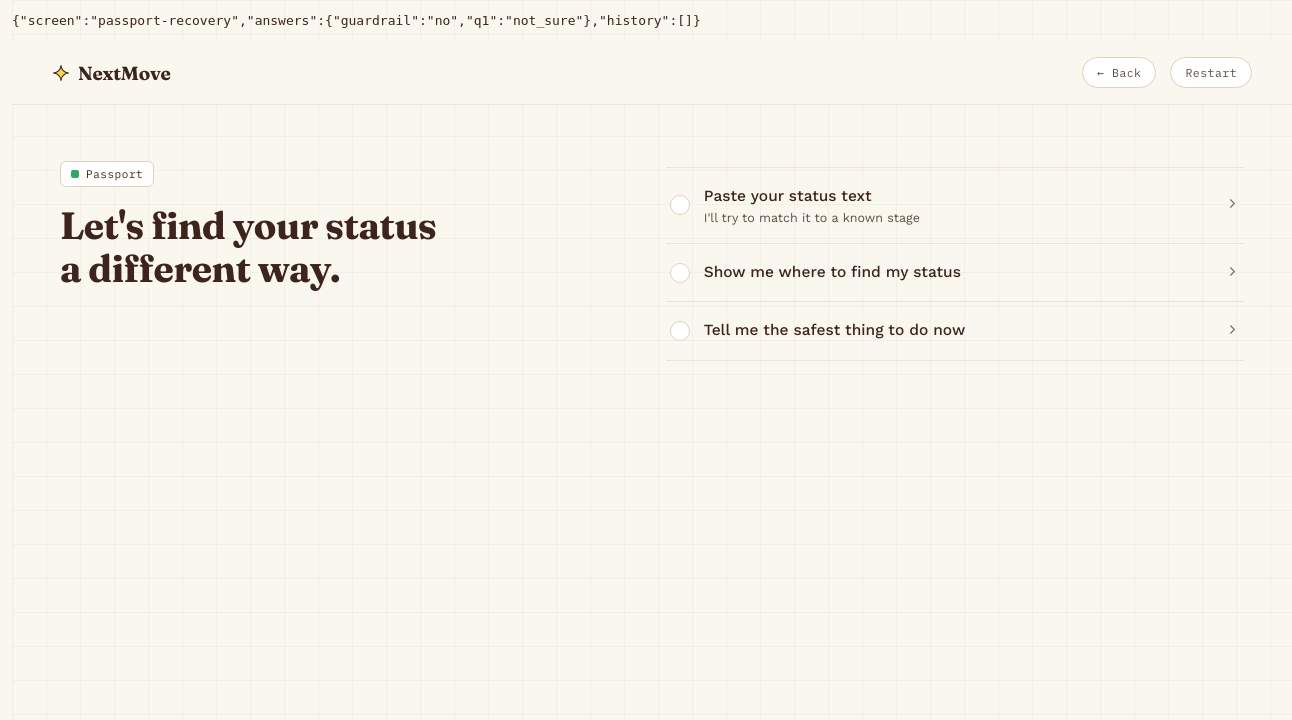
Scenario: passport flow › recovery "show me where" returns to Q1 with replace (no history stack growth)
Click the button "Show me where to find my status" at (955, 273), box [666, 244, 1244, 302]
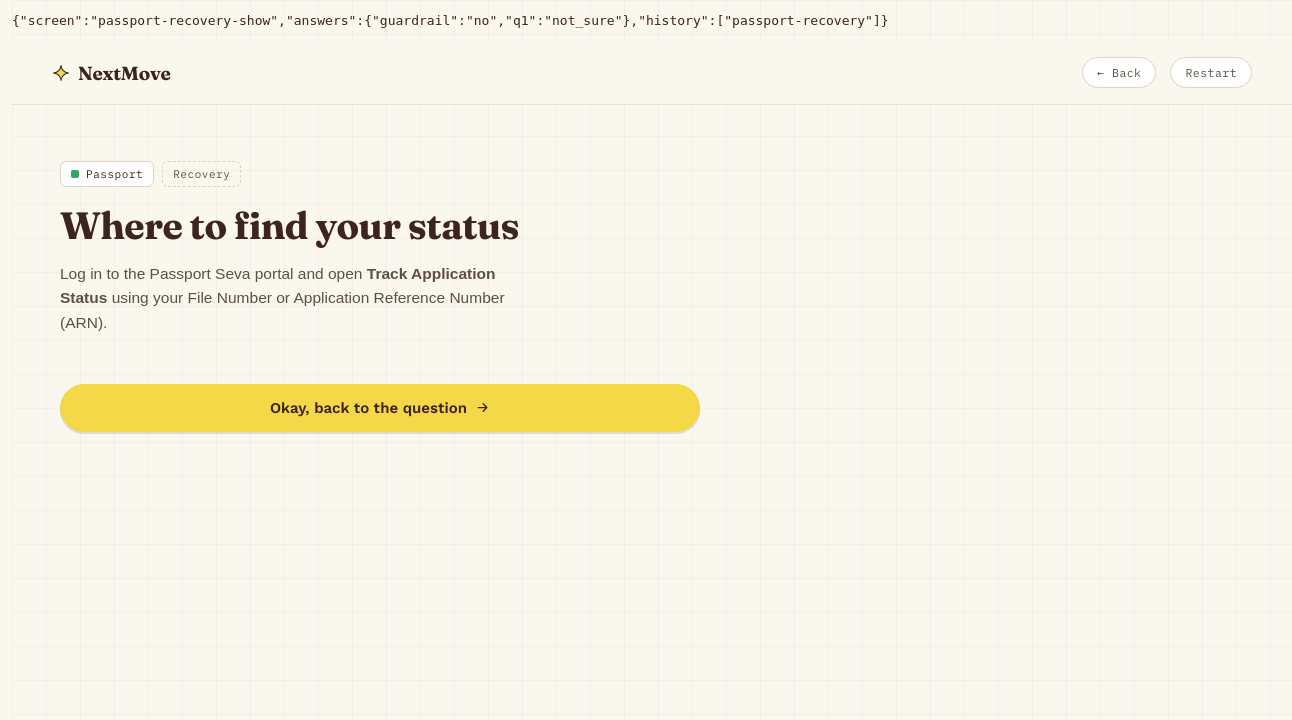
Expected: the heading "Where to find your status" is shown, [60, 202, 519, 249]
Click the button "Okay, back to the question" at (380, 408), box [60, 384, 700, 432]
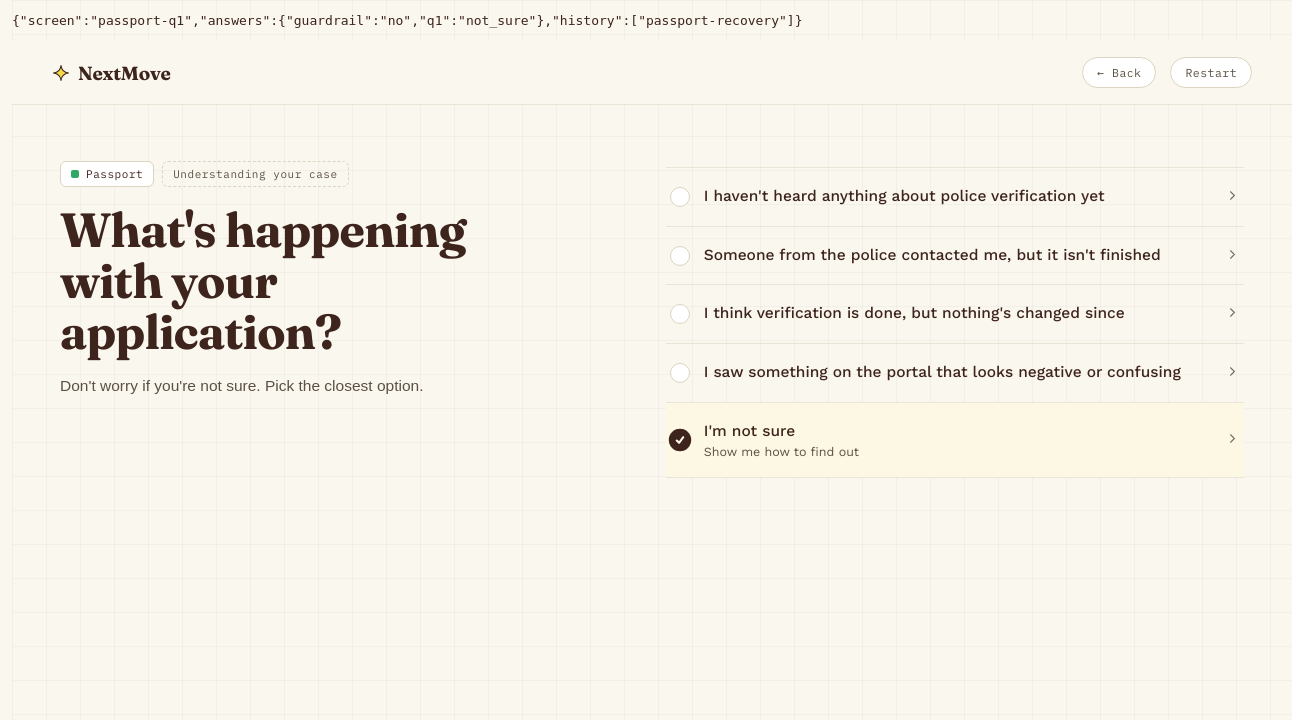
Expected: the heading "What's happening with your application?" is shown, [60, 200, 466, 361]
